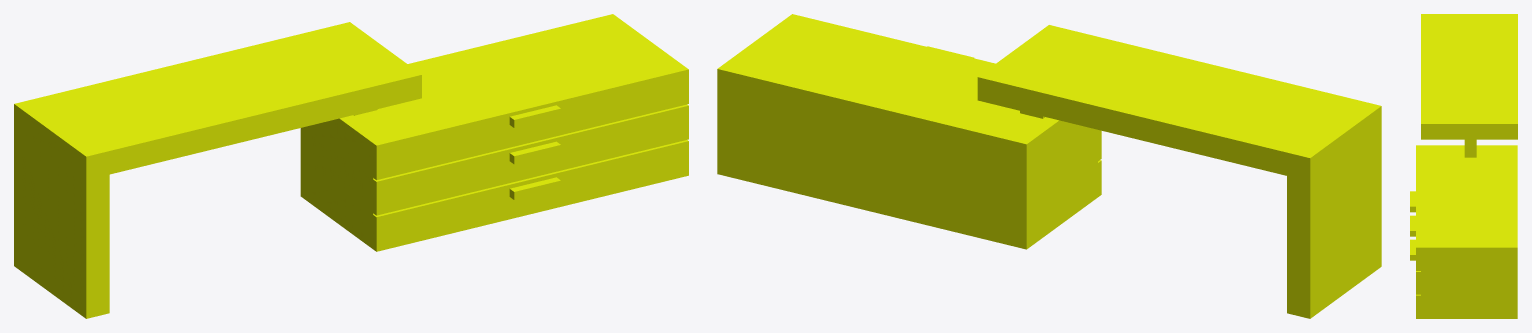
File: Desk1.FBX
3 views of the same model, side by side, from view 1: azimuth 30°, elevation 25°; view 2: azimuth 150°, elevation 25°; view 3: azimuth 270°, elevation 25° (orthographic). The views are drawn at different scales.
Visible parts, largest first — view 1: Box008; view 2: Box008; view 3: Box008.
Part boxes in pixels (x1,y1,x2,y2): Box008: (14, 14, 688, 318); Box008: (717, 14, 1381, 318); Box008: (1410, 14, 1517, 318).
Bounding box in the file's own units: 4.34 × 1.12 × 1.01.
